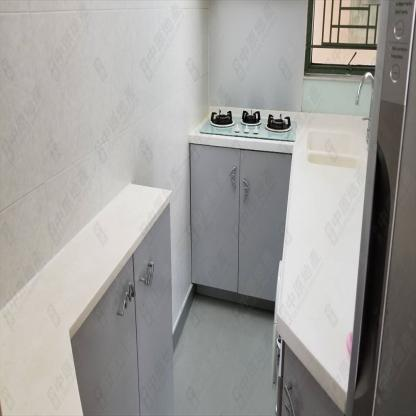Cupboard: (71, 203, 175, 415), (188, 142, 292, 300)
Faucet: (355, 63, 371, 138)
Sink: (307, 129, 365, 168)
Stove: (201, 106, 297, 142)
